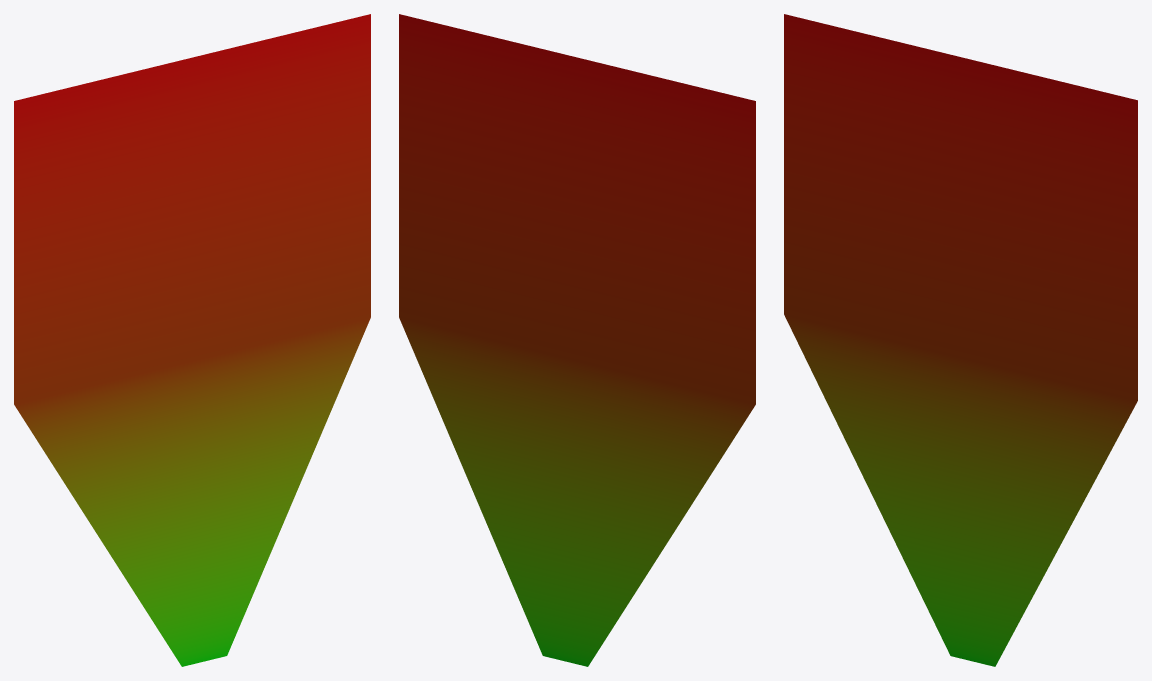
File: Rough Meadow Grass_LOD3_Var3_skFjJ.fbx
The picture shows the model from 3 angles, left to right: view 1: azimuth 30°, elevation 25°; view 2: azimuth 150°, elevation 25°; view 3: azimuth 330°, elevation 25°; orthographic projection.
Visible parts, largest first — view 1: _6a54_Var3_LOD3; view 2: _6a54_Var3_LOD3; view 3: _6a54_Var3_LOD3.
Boxes of the visible parts, left/top/right/bottom form: _6a54_Var3_LOD3: left=14, top=14, right=370, bottom=666; _6a54_Var3_LOD3: left=399, top=14, right=755, bottom=666; _6a54_Var3_LOD3: left=784, top=14, right=1137, bottom=666.
Bounding box in the file's own units: 79.72 × 130 × 1.84e-05.
